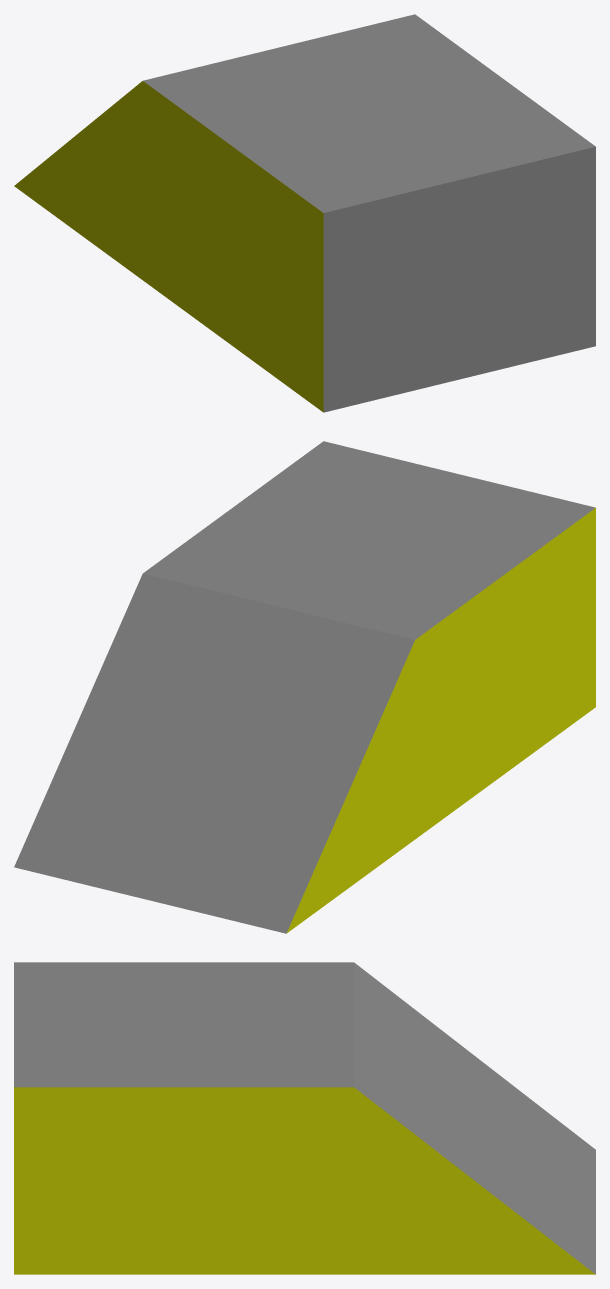
Rendered from Problem_2.glb.
3 views of the same model, one above another, from view 1: azimuth 30°, elevation 25°; view 2: azimuth 150°, elevation 25°; view 3: azimuth 270°, elevation 25° (orthographic). The views are drawn at different scales.
Parts seen in each view (by area): view 1: Problem_2; view 2: Problem_2; view 3: Problem_2.
Part boxes in pixels (x1=…): Problem_2: x1=14, y1=14, x2=595, y2=412; Problem_2: x1=14, y1=441, x2=595, y2=933; Problem_2: x1=14, y1=962, x2=595, y2=1274.
Size of the model in its own units: 2 by 1.4 by 3.94.
